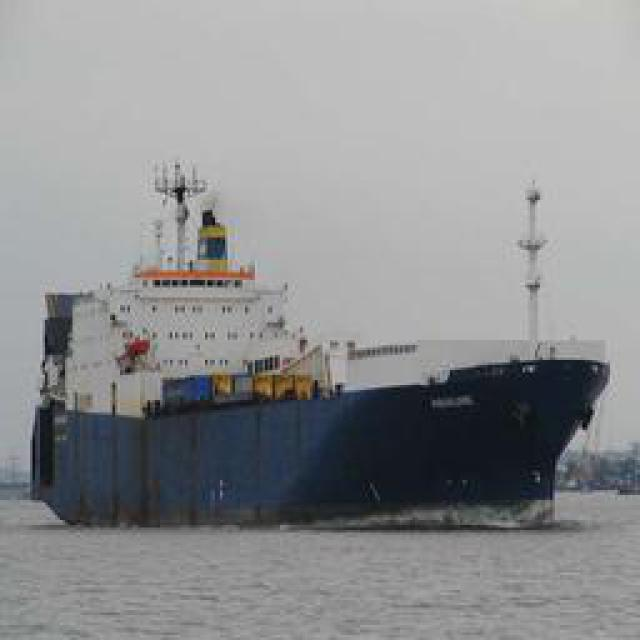Ship: (16, 153, 626, 539)
